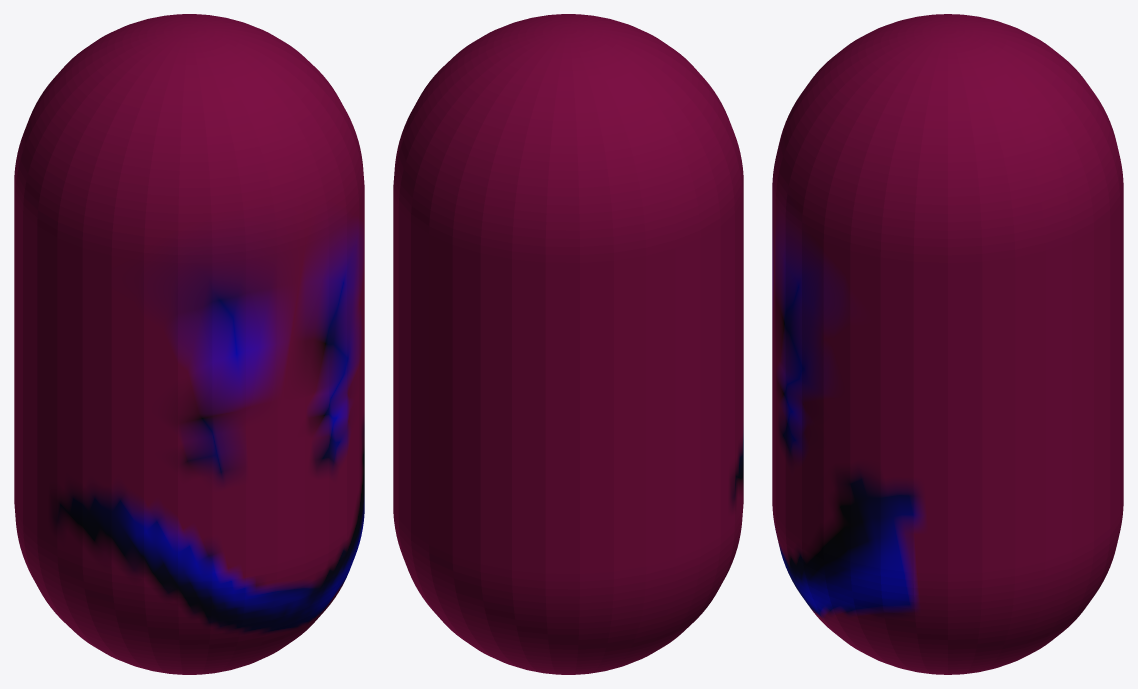
File: temp-char.glb
3 renders of one model, left to right at view 1: azimuth 30°, elevation 25°; view 2: azimuth 150°, elevation 25°; view 3: azimuth 270°, elevation 25°, orthographic.
Visible parts, largest first — view 1: Cylinder; view 2: Cylinder; view 3: Cylinder.
Part boxes in pixels (x1,y1,x2,y2): Cylinder: (14,14,364,674); Cylinder: (393,14,743,674); Cylinder: (772,14,1123,674).
Bounding box in the file's own units: 0.7682 × 1.51 × 0.7682.
1 material, 1 textured.
